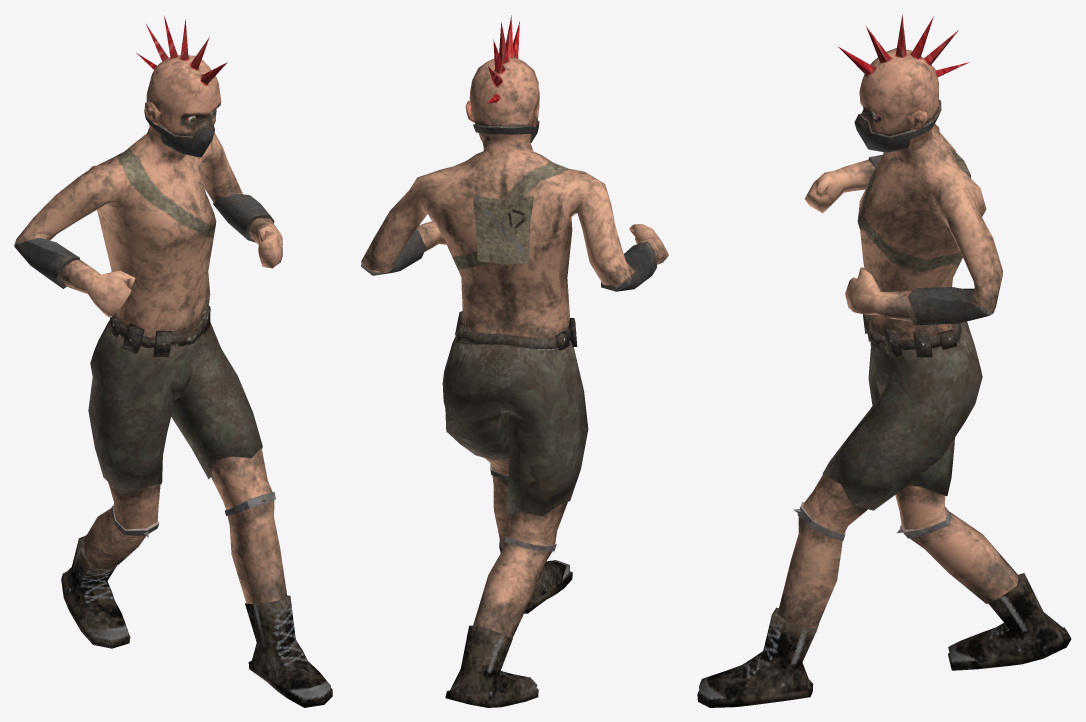
Rendered from Anim_ataque_d1_npc2.0019.obj.
3 views of the same model, side by side, from view 1: azimuth 30°, elevation 25°; view 2: azimuth 150°, elevation 25°; view 3: azimuth 270°, elevation 25° (orthographic). The views are drawn at different scales.
Visible parts, largest first — view 1: polySurface1; view 2: polySurface1; view 3: polySurface1.
Part boxes in pixels (<box>): polySurface1: <box>14,15,332,707</box>; polySurface1: <box>361,15,668,707</box>; polySurface1: <box>697,14,1071,707</box>.
Size of the model in its own units: 4 by 9.73 by 4.9.
